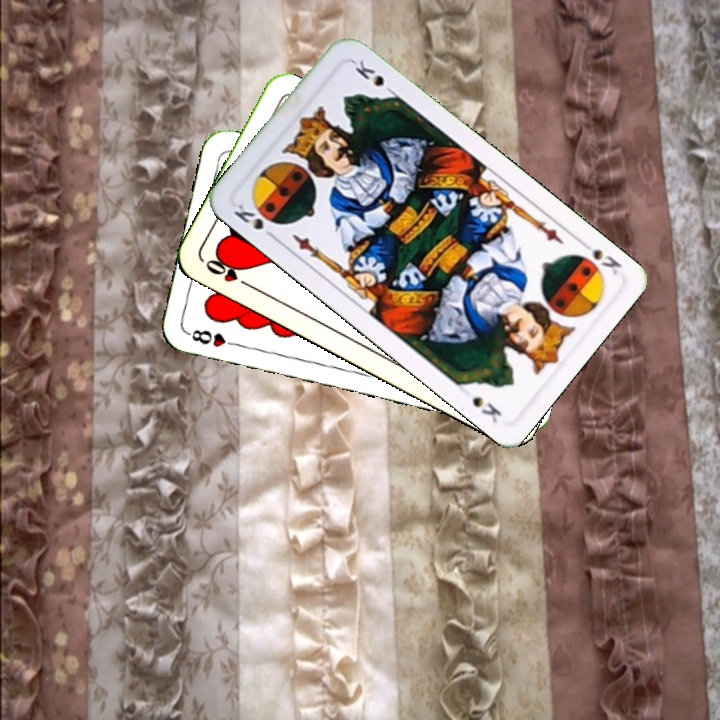H8: (183, 325, 242, 350)
HO: (201, 252, 254, 291)
SK: (229, 199, 280, 243), (574, 237, 625, 278)
